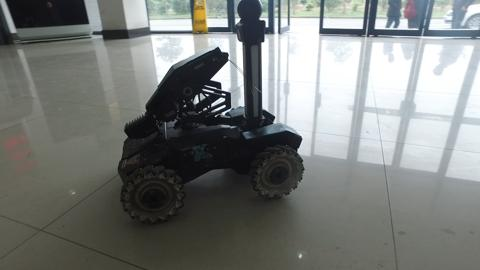chariot: (116, 1, 305, 224)
